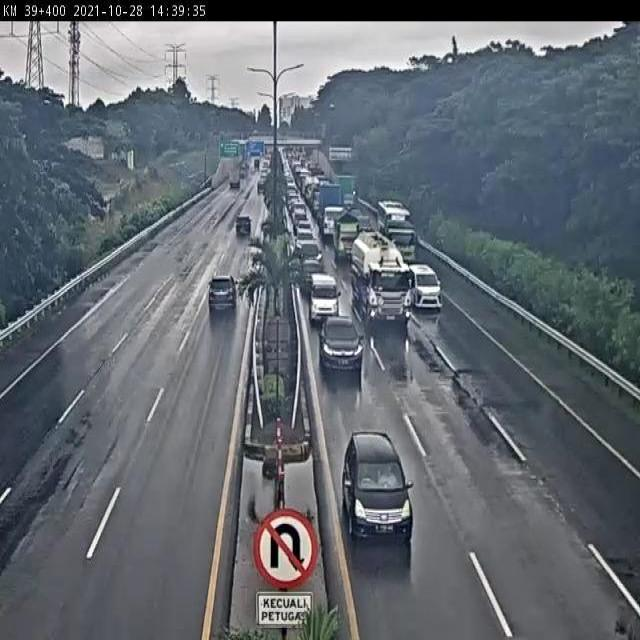big bus: (381, 203, 417, 257)
big truck: (348, 232, 408, 325)
car: (343, 432, 416, 536), (312, 309, 360, 360), (201, 268, 242, 324), (302, 267, 351, 312), (409, 264, 445, 307), (289, 228, 324, 261), (226, 211, 253, 245)
small truck: (329, 214, 364, 266)
